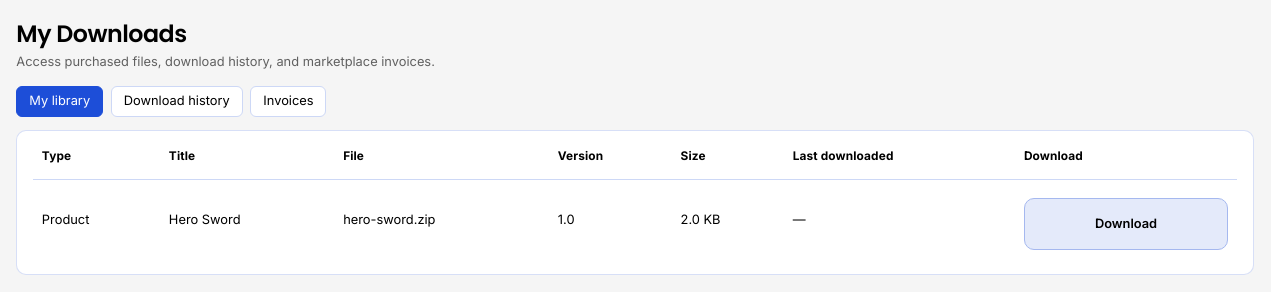
Test case: MyDownloadsPage › shows download history tab
expect the heading "My Downloads" is shown: met, box [16,17,187,50]
Click the tab "Download history". click: [177, 101]
box: [111,86,243,117]
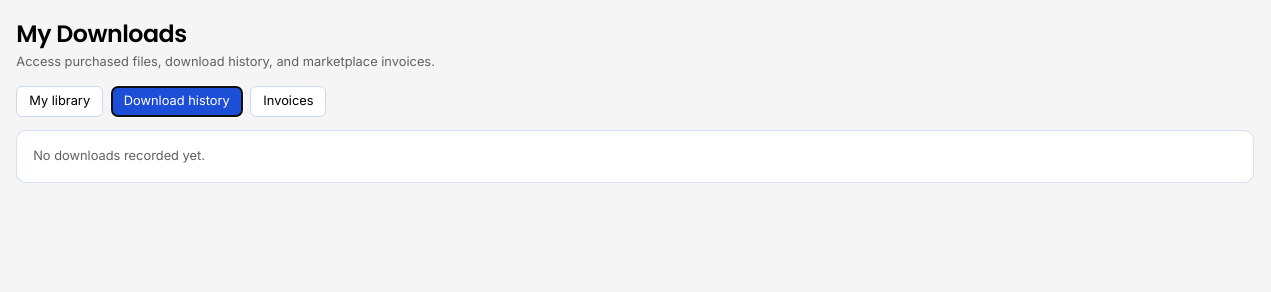
expect the text "No downloads recorded yet." is shown: met, box [33,148,205,163]
